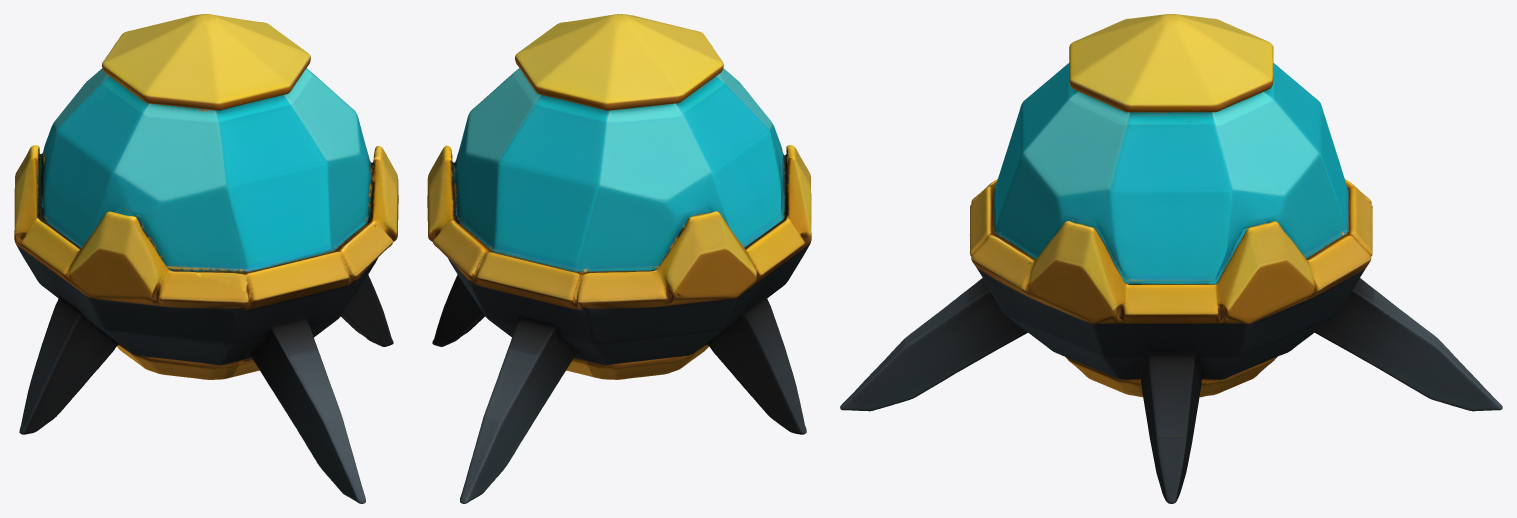
The model's file is Simple sci fi gemstone container with legs.fbx.
3 renders of one model, left to right at view 1: azimuth 30°, elevation 25°; view 2: azimuth 150°, elevation 25°; view 3: azimuth 270°, elevation 25°, orthographic. The views are drawn at different scales.
Visible parts, largest first — view 1: Simple sci fi gemstone container with legs; view 2: Simple sci fi gemstone container with legs; view 3: Simple sci fi gemstone container with legs.
Boxes of the visible parts, left/top/right/bottom form: Simple sci fi gemstone container with legs: left=14, top=14, right=398, bottom=503; Simple sci fi gemstone container with legs: left=427, top=14, right=811, bottom=503; Simple sci fi gemstone container with legs: left=840, top=14, right=1502, bottom=503.
Bounding box in the file's own units: 129 × 123 × 189.
